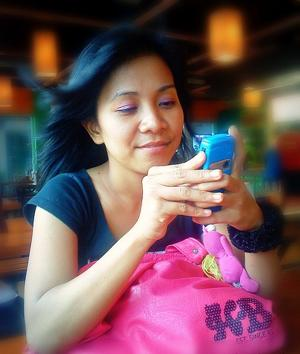person: (23, 27, 280, 354)
